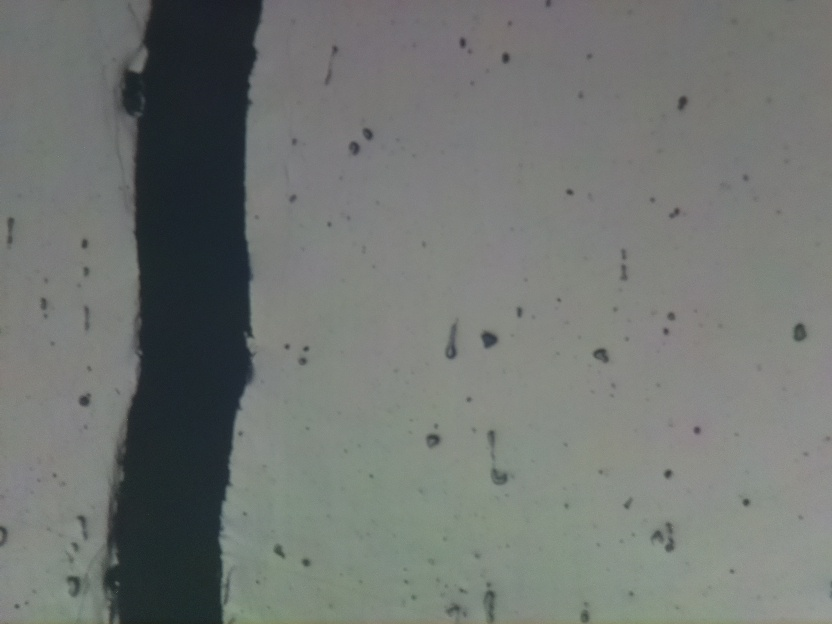crack: (107, 0, 267, 619)
